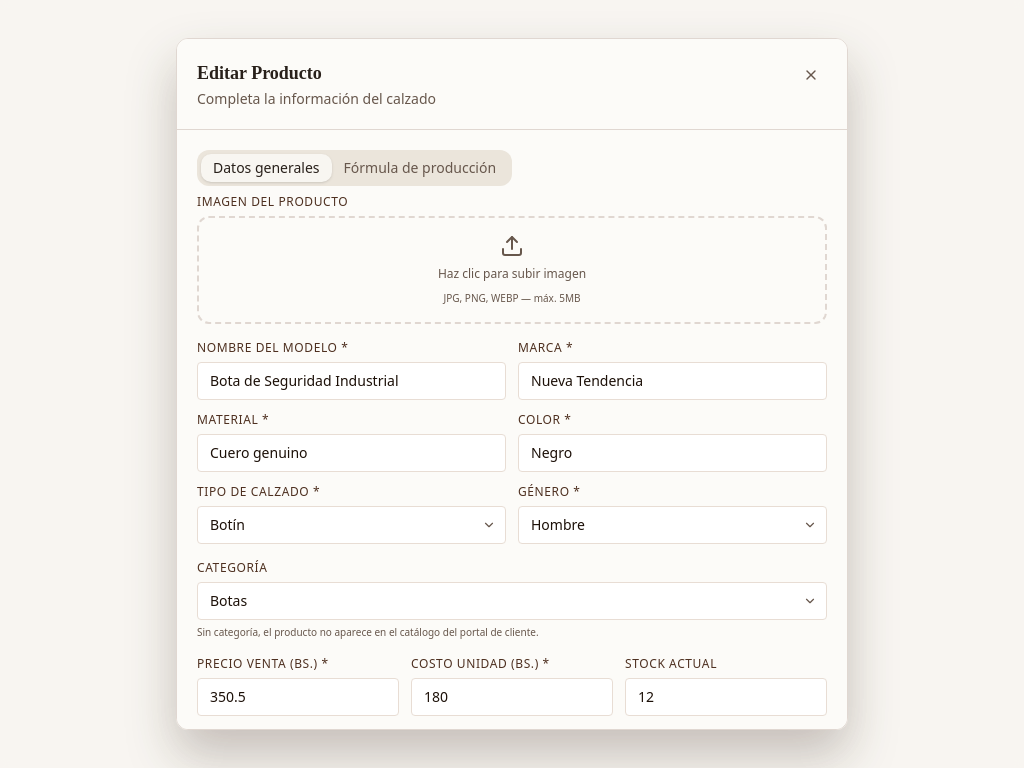
Scenario: ProductoModal — categoría (CreatableSelect) › permite dejar el producto sin categoría explícitamente
Click the 7th field with placeholder "Selecciona una categoría" at point(512, 601), box [197,582,827,620]
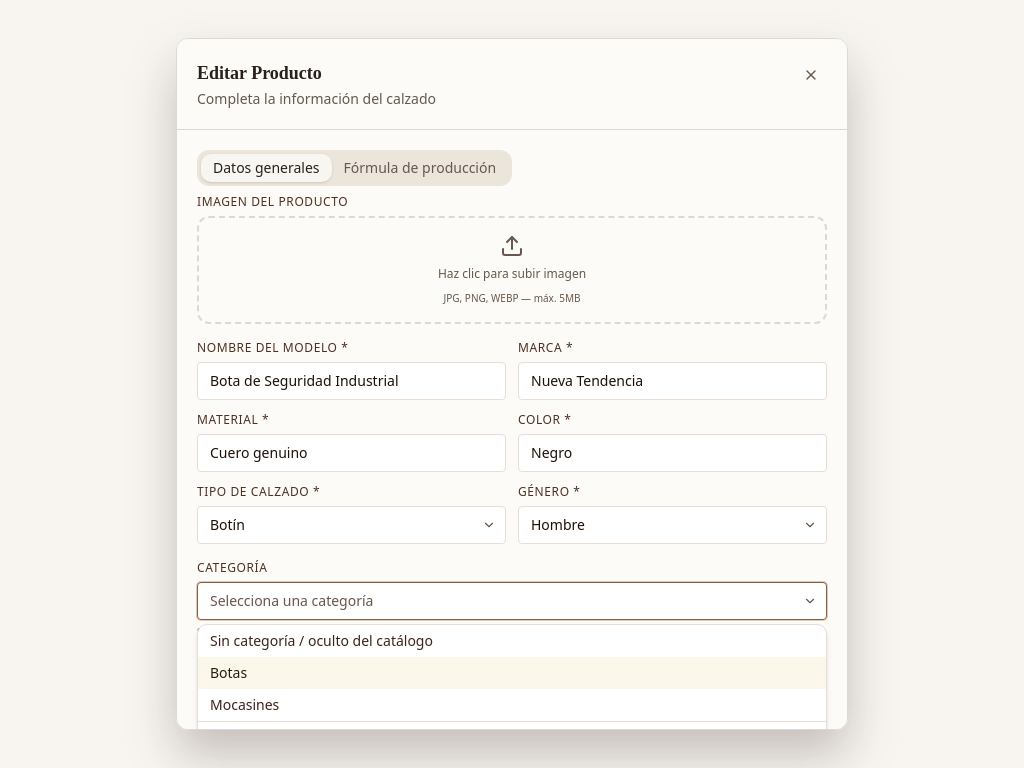
Click the button "Sin categoría / oculto del catálogo" at point(321, 641), box [198,625,826,657]
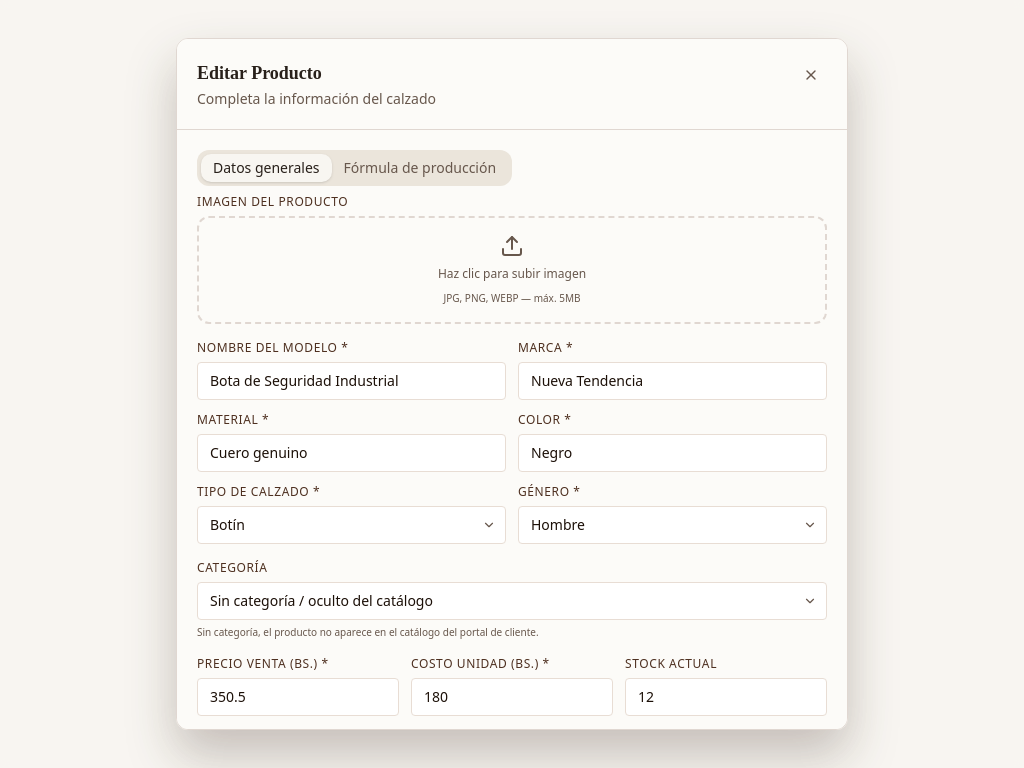
Check: the 7th field with placeholder "Selecciona una categoría" holds "Sin categoría / oculto del catálogo", box [197,582,827,620]
